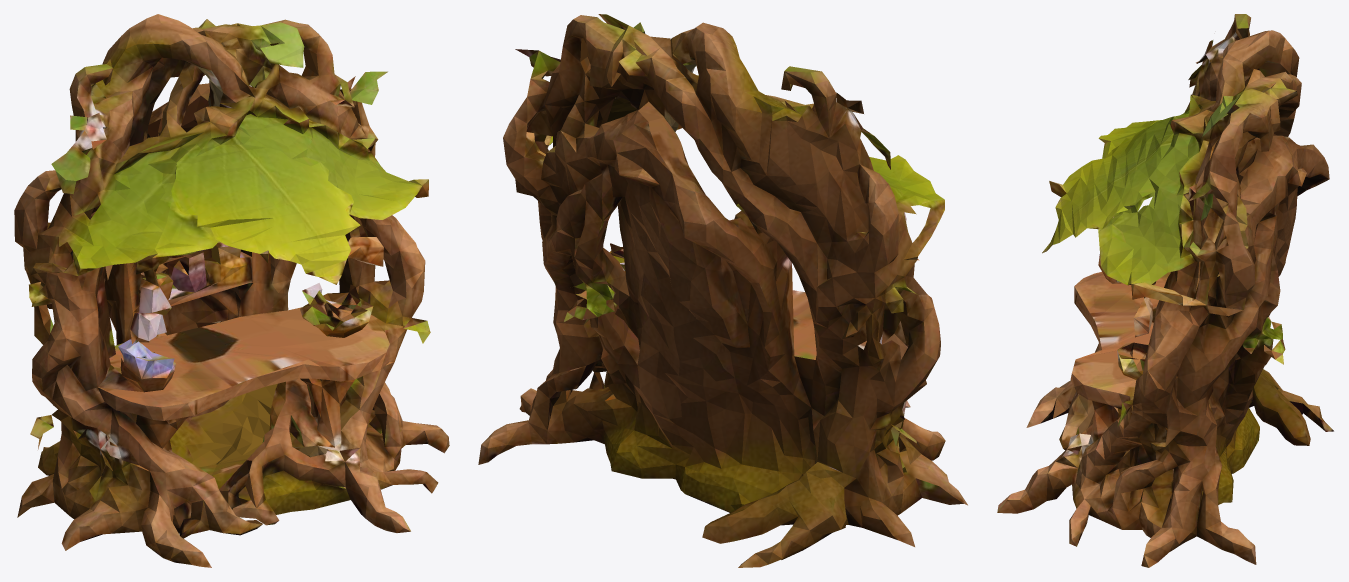
The model's file is fairy_root_market_1117.glb.
3 views of the same model, side by side, from view 1: azimuth 30°, elevation 25°; view 2: azimuth 150°, elevation 25°; view 3: azimuth 270°, elevation 25° (orthographic). The views are drawn at different scales.
Parts seen in each view (by area): view 1: world; view 2: world; view 3: world.
Part boxes in pixels (x1,y1,x2,y2): world: (14, 14, 449, 567); world: (478, 14, 967, 567); world: (997, 14, 1333, 567).
Bounding box in the file's own units: 0.9288 × 1 × 0.7045.
1 material, 1 textured.
